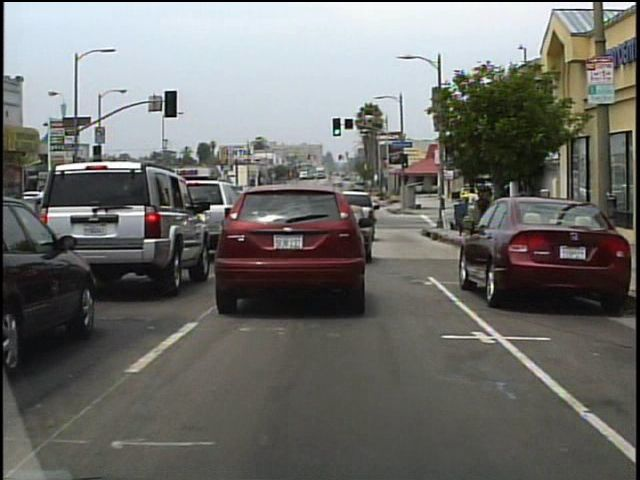person: (475, 194, 489, 243)
